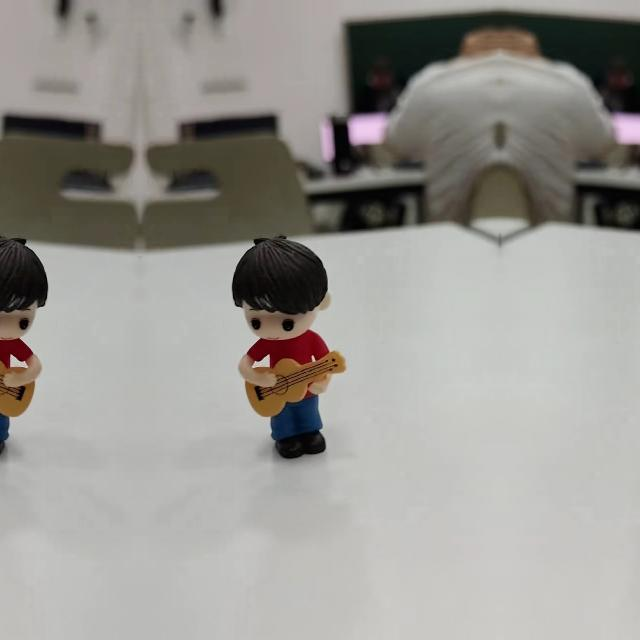man cloth: (247, 333, 336, 365), (0, 333, 33, 365)
man head: (228, 232, 332, 342), (0, 232, 52, 341)
trousers: (272, 389, 328, 459), (0, 389, 8, 459)
